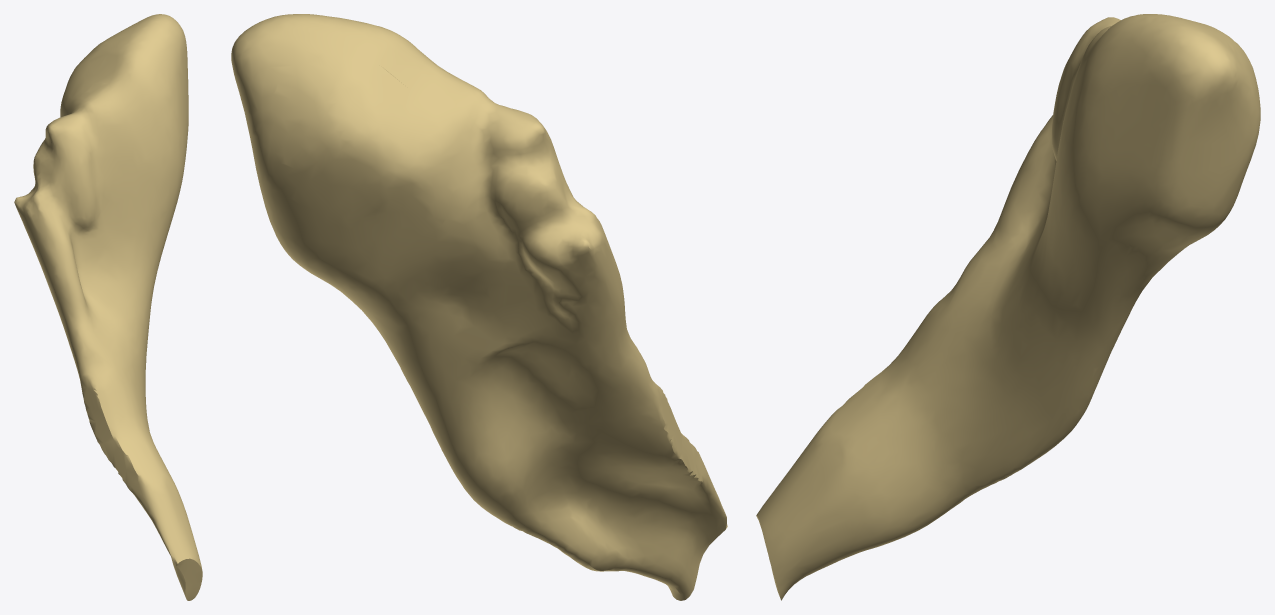
3 renders of one model, left to right at view 1: azimuth 30°, elevation 25°; view 2: azimuth 150°, elevation 25°; view 3: azimuth 270°, elevation 25°, orthographic. The views are drawn at different scales.
Visible parts, largest first — view 1: 左侧小脑上脚; view 2: 左侧小脑上脚; view 3: 左侧小脑上脚.
Part boxes in pixels (x1=…): 左侧小脑上脚: x1=14, y1=14, x2=202, y2=600; 左侧小脑上脚: x1=231, y1=14, x2=727, y2=600; 左侧小脑上脚: x1=756, y1=14, x2=1260, y2=600.
Bounding box in the file's own units: 0.0202 × 0.0442 × 0.0313.
